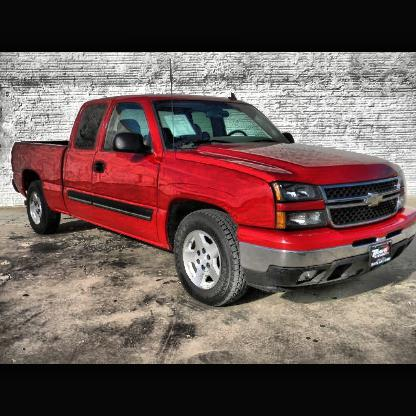Chevrolet Silverado 1500 Classic Extended Cab 2007: (13, 94, 416, 310)
